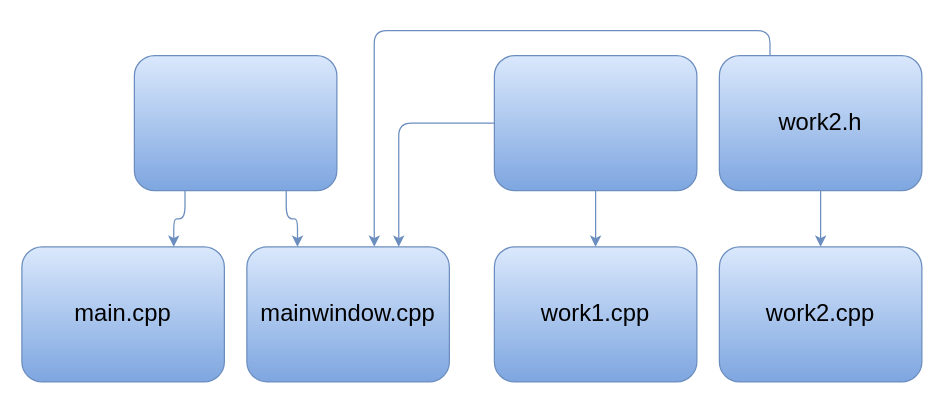
Image size: 944x404. Some labels were removed from this diagram. Here are the shapes that lost their labels. From the top down, the centre of each, then its label:
At (x=235, y=122): "mainwindow.h".
At (x=595, y=122): "work1.h".
